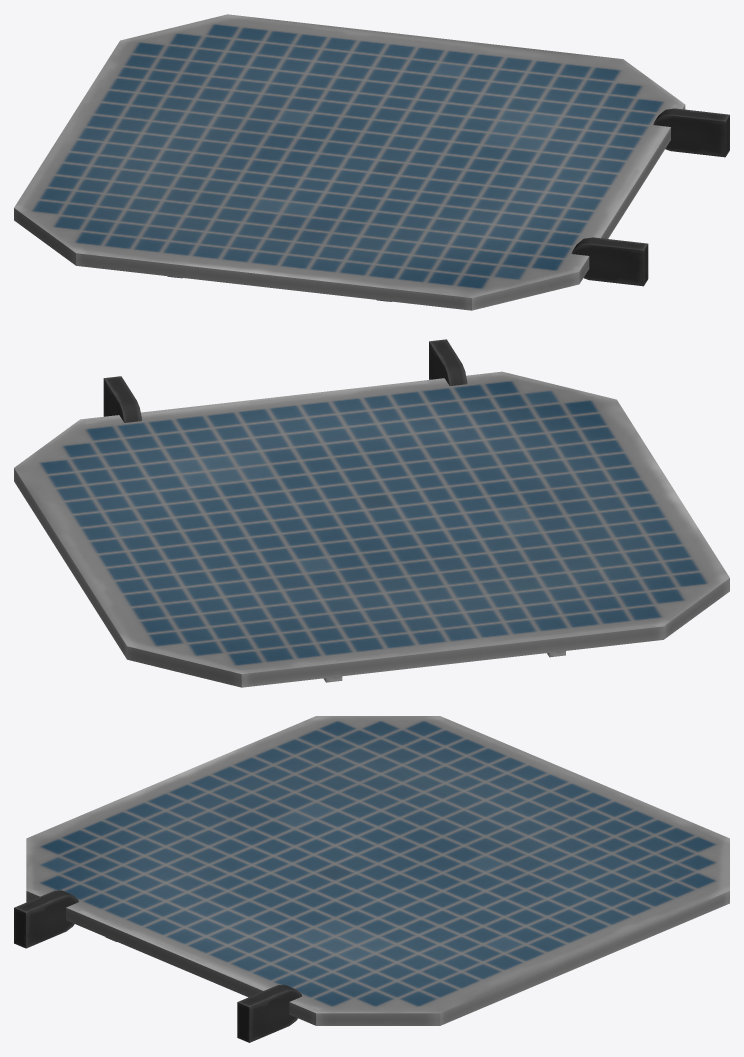
Rendered from bluedog_LunarOrbiter_Panel.fbx.
The picture shows the model from 3 angles, top to bottom: view 1: azimuth 30°, elevation 25°; view 2: azimuth 150°, elevation 25°; view 3: azimuth 270°, elevation 25°; orthographic projection. The views are drawn at different scales.
Parts seen in each view (by area): view 1: pCube84, pCylinder168, pCylinder167; view 2: pCube84, pCylinder167, pCylinder168; view 3: pCube84, pCylinder167, pCylinder168.
Part boxes in pixels (bbox=[...]): pCube84: bbox=[14, 14, 685, 310]; pCylinder168: bbox=[571, 237, 648, 286]; pCylinder167: bbox=[653, 108, 729, 157]; pCube84: bbox=[14, 371, 729, 687]; pCylinder167: bbox=[103, 376, 141, 422]; pCylinder168: bbox=[429, 339, 467, 385]; pCube84: bbox=[26, 716, 729, 1025]; pCylinder167: bbox=[237, 984, 302, 1042]; pCylinder168: bbox=[14, 890, 78, 948].
Size of the model in its own units: 0.5225 by 0.0311 by 0.5221.
1 material, 1 textured.
